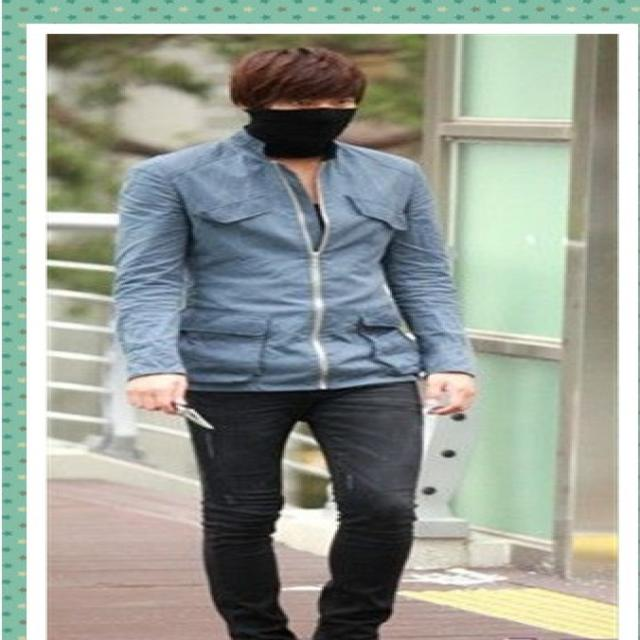mask: (243, 89, 355, 155)
